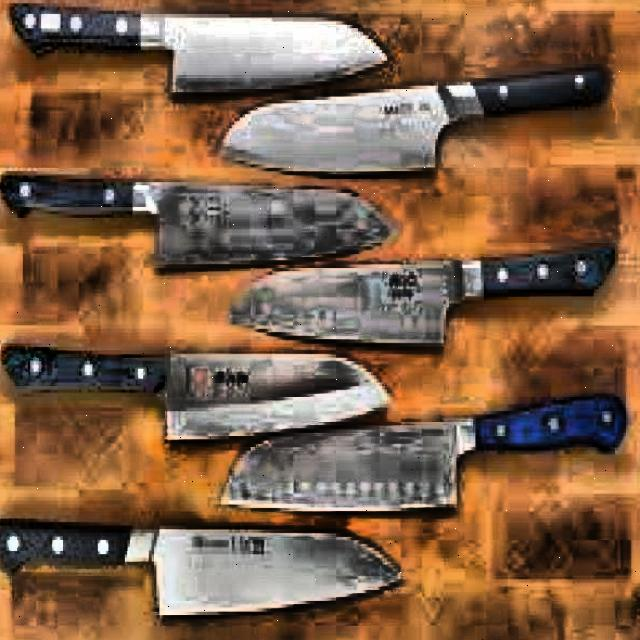knife: (226, 384, 630, 514), (0, 161, 400, 283), (224, 58, 616, 176), (0, 334, 394, 448), (231, 243, 621, 358), (0, 507, 411, 616), (6, 0, 392, 98)
